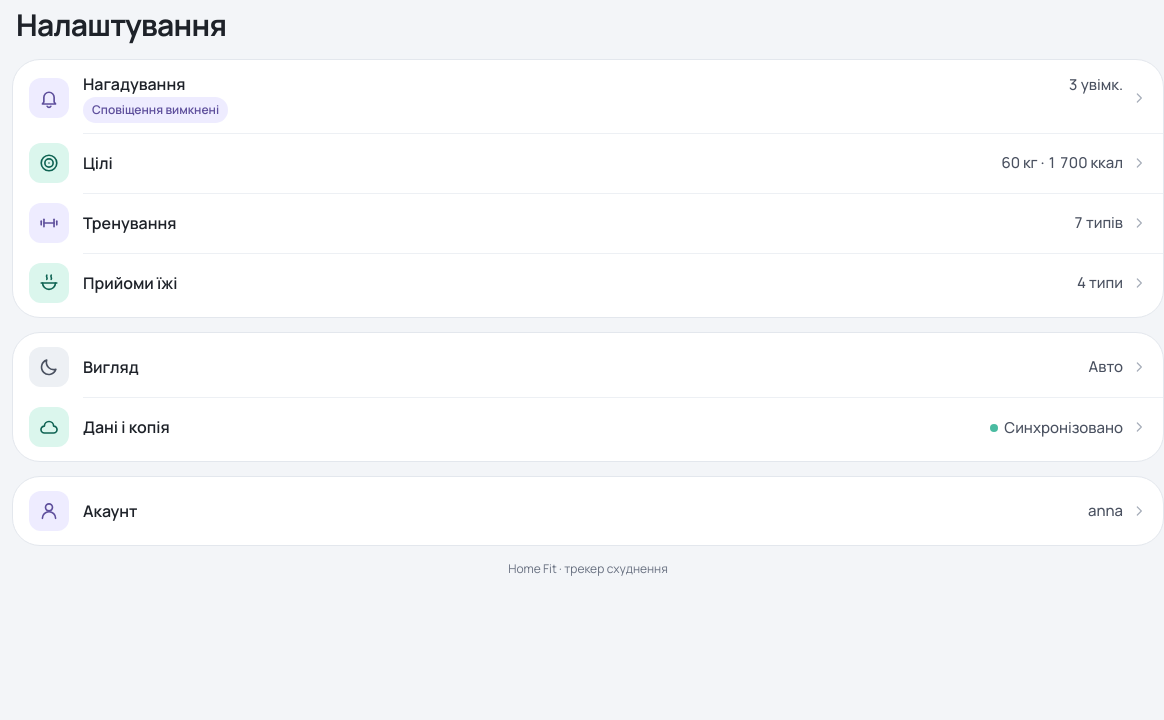
it: SettingsScreen — the list (phone) › focus on the way back to the list › lands on the row that opened the sub-page after «‹ Налаштування»
Click the link "Цілі 60 кг · 1 700 ккал" at point(49, 163), box [13,133,1163,193]
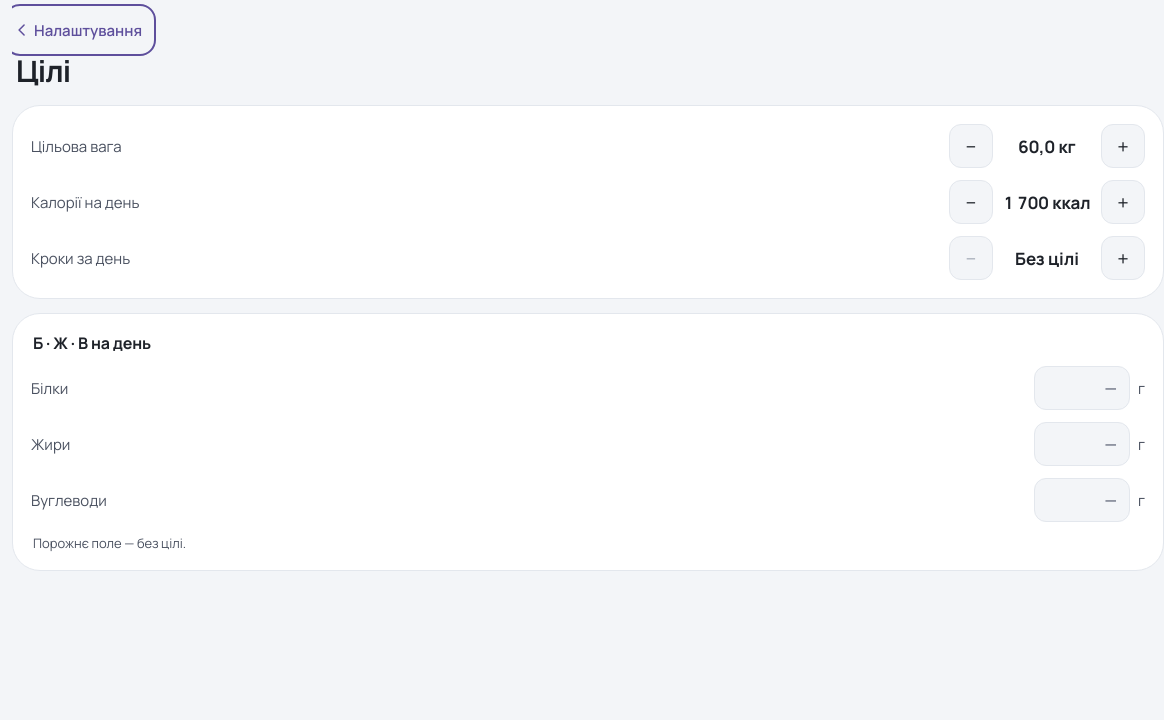
Click the link with aria-label "Назад: Налаштування" at point(77, 30), box [12,20,142,40]
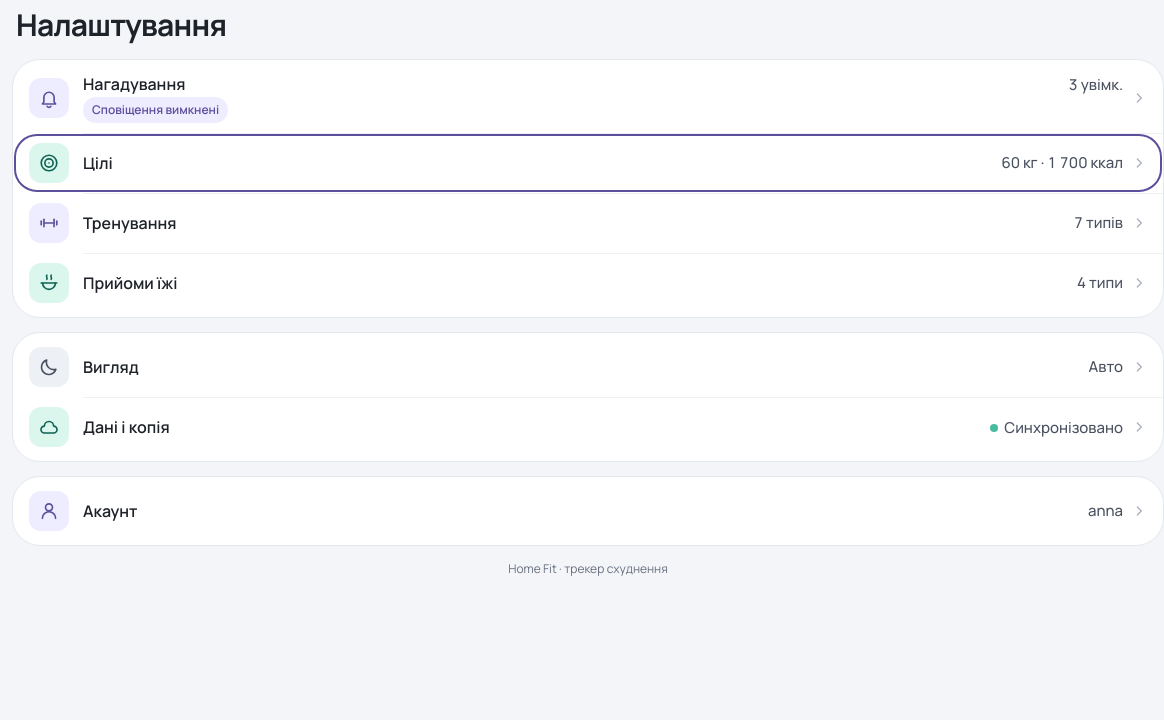
Expected: the heading "Налаштування" is shown, [16,8,226,41]
